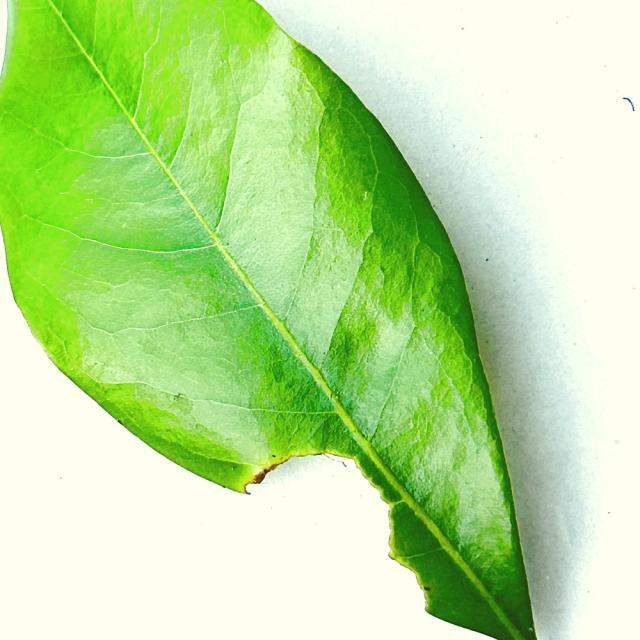Deficiency Leaf: (241, 456, 425, 621)
Lychee: (0, 0, 538, 639)
